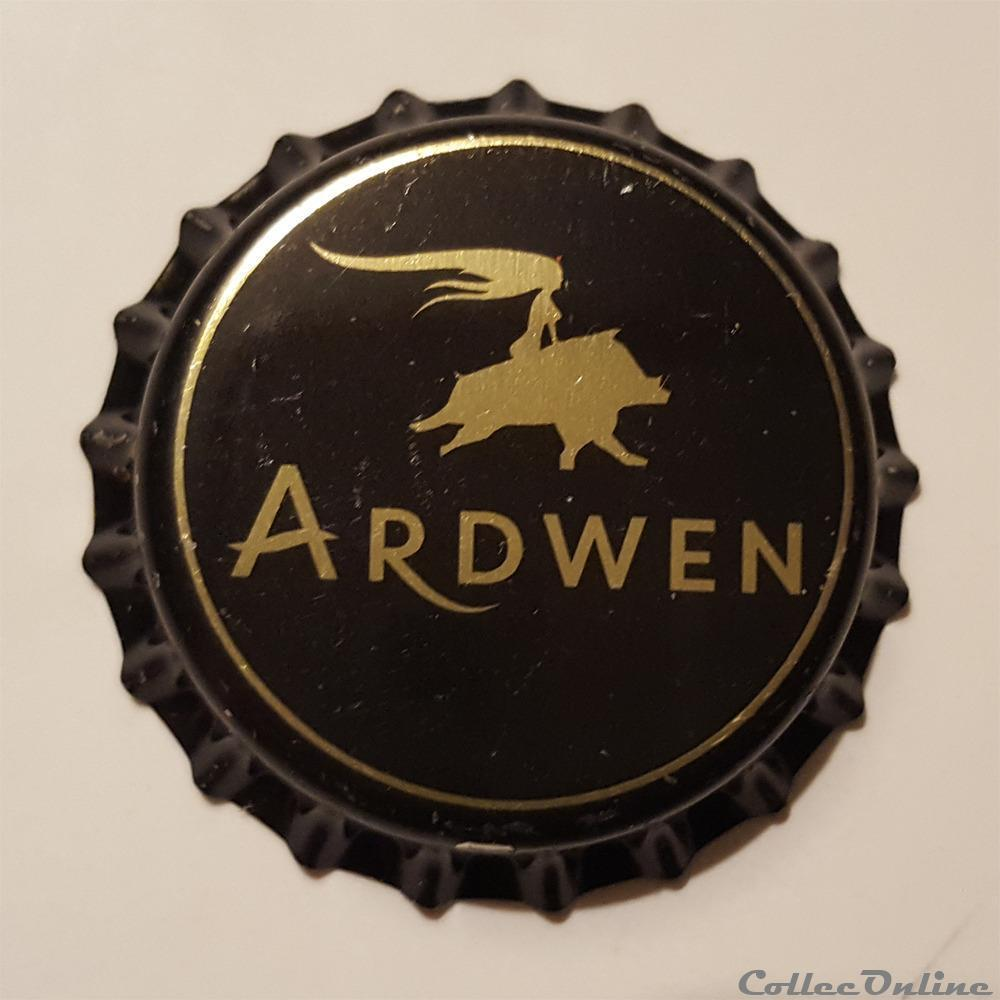metal: (81, 80, 920, 914)
